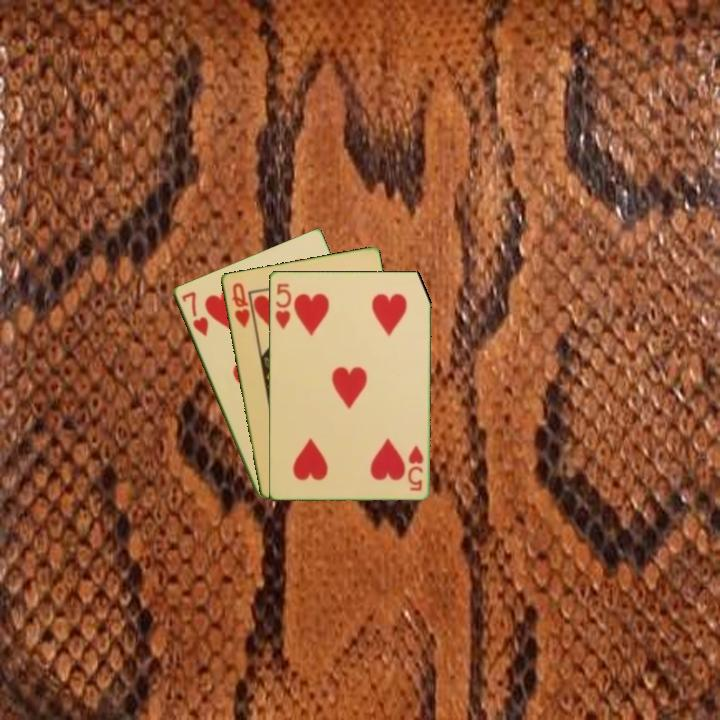5h: (272, 280, 294, 332), (404, 442, 426, 493)
7h: (178, 288, 211, 340)
Qh: (228, 279, 253, 330)
